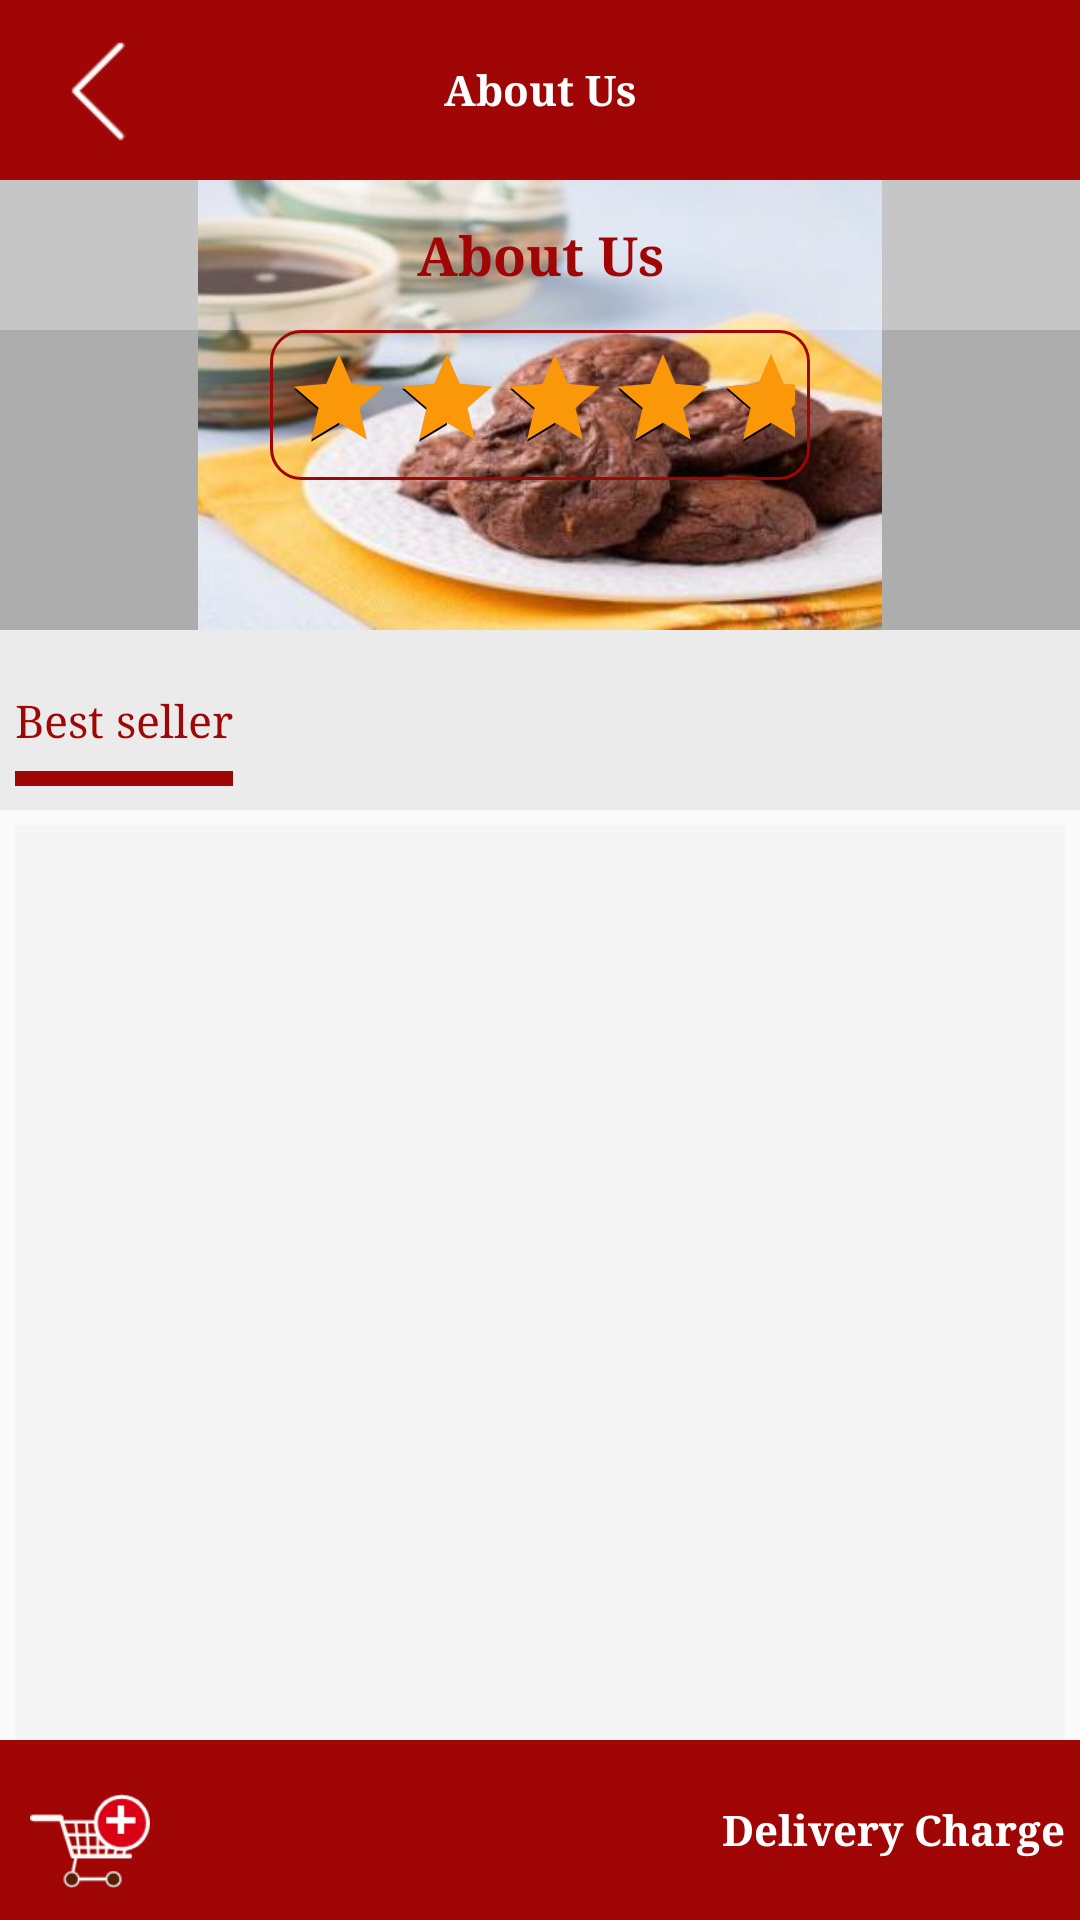

Icon bounding boxes for this 1080 × 1920 phone screenshot, format {"left": x1, "top": y1, "right": x2, "bottom": y2}:
cart: {"left": 30, "top": 1794, "right": 150, "bottom": 1888}
left: {"left": 71, "top": 42, "right": 125, "bottom": 141}
